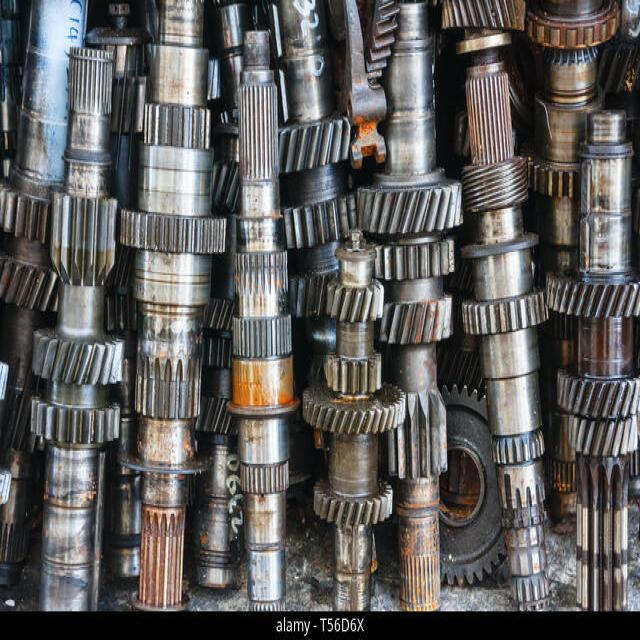Bearing: (525, 0, 622, 52)
Gear: (434, 382, 509, 588), (327, 0, 401, 109), (47, 190, 121, 288), (356, 173, 465, 239), (384, 388, 451, 481), (30, 327, 126, 389), (300, 383, 408, 438), (119, 206, 228, 259), (137, 500, 187, 611), (546, 266, 640, 321), (27, 394, 122, 448), (554, 364, 640, 422), (279, 115, 356, 179), (463, 70, 513, 168), (133, 352, 203, 421), (281, 191, 358, 252), (236, 80, 280, 184), (461, 286, 549, 338), (311, 475, 394, 530), (378, 295, 458, 348), (0, 253, 64, 315), (140, 101, 212, 153), (372, 240, 458, 283), (1, 182, 55, 248), (521, 148, 585, 202), (439, 0, 528, 37), (566, 415, 640, 458), (230, 313, 294, 360), (322, 277, 385, 321), (322, 352, 383, 396), (286, 272, 338, 320), (236, 460, 291, 498), (196, 395, 242, 437), (211, 159, 244, 216), (104, 291, 142, 337), (200, 334, 234, 371), (207, 295, 238, 334)
